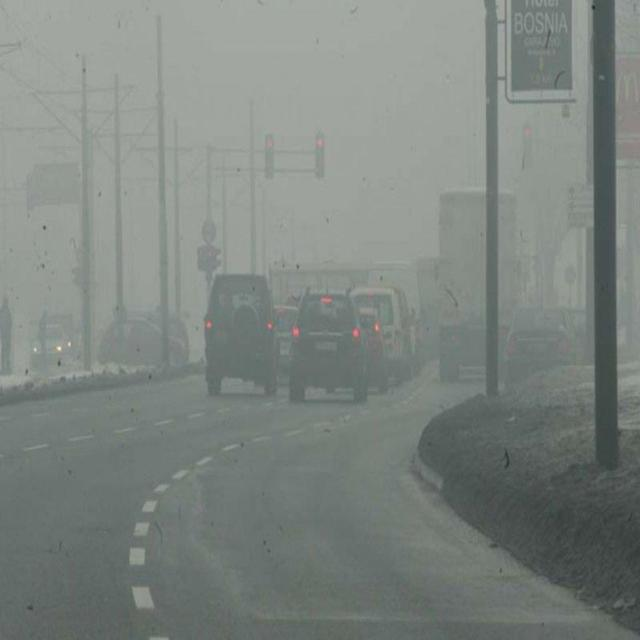Car: (194, 266, 283, 403), (288, 288, 374, 402), (353, 286, 415, 387), (504, 305, 576, 380), (99, 310, 188, 369), (439, 307, 502, 383), (574, 300, 640, 356), (30, 312, 79, 368)
Truck: (433, 188, 513, 352), (270, 264, 371, 318), (415, 256, 457, 361)
